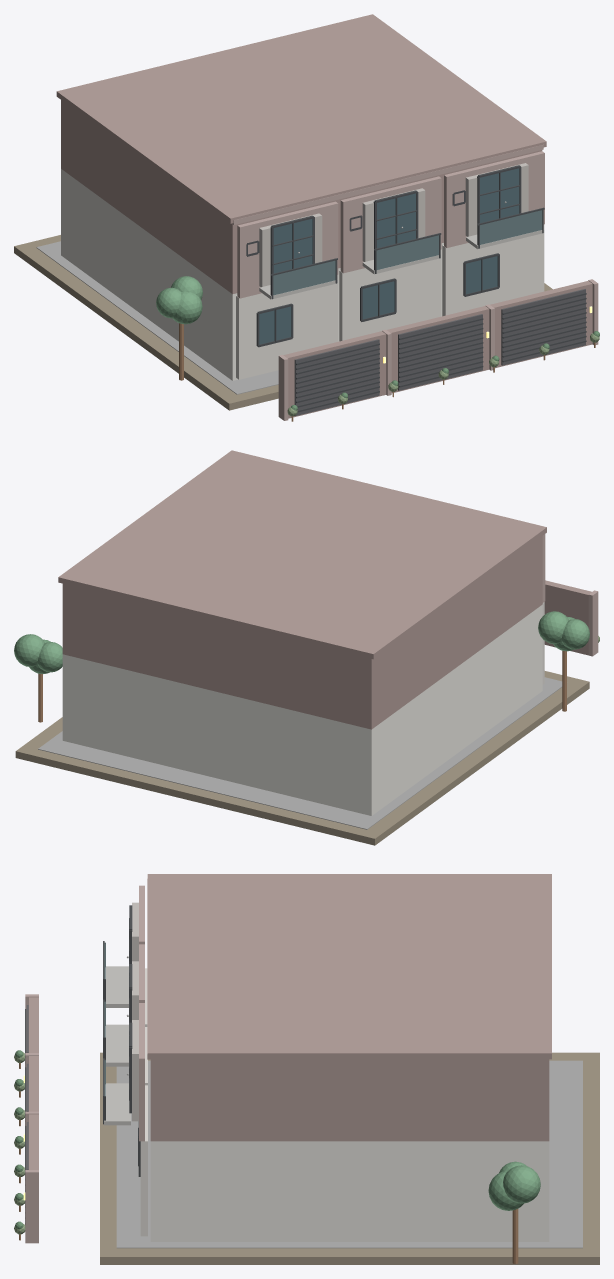
Rendered from modelo-3d-aproximado.glb.
3 views of the same model, one above another, from view 1: azimuth 30°, elevation 25°; view 2: azimuth 150°, elevation 25°; view 3: azimuth 270°, elevation 25° (orthographic). The views are drawn at different scales.
Parts seen in each view (by area): view 1: taupe, stucco, white, taupe2, black, coal, glazing, soil, glazing2, warmgray, paving, foliage (+1 smaller); view 2: taupe, white, soil, paving, foliage, taupe2, wood; view 3: taupe, white, soil, paving, taupe2, concrete, foliage, black, warmgray, stucco.
Boxes of the visible parts, x1,y1,x2,y2 form: taupe: [56, 14, 592, 418]; stucco: [236, 224, 544, 379]; white: [61, 169, 443, 380]; taupe2: [232, 144, 598, 420]; black: [246, 165, 586, 412]; coal: [294, 289, 585, 415]; glazing: [259, 168, 519, 344]; soil: [14, 235, 552, 410]; glazing2: [273, 210, 542, 295]; warmgray: [259, 163, 528, 287]; paving: [36, 241, 278, 394]; foliage: [156, 276, 202, 324]; taupe: [58, 450, 591, 729]; white: [62, 604, 542, 815]; soil: [15, 671, 589, 845]; paving: [38, 677, 562, 829]; foliage: [14, 611, 589, 673]; taupe2: [542, 534, 598, 656]; wood: [38, 651, 566, 722]; taupe: [29, 874, 551, 1169]; white: [150, 1141, 549, 1241]; soil: [100, 1052, 599, 1264]; paving: [116, 1060, 582, 1248]; taupe2: [25, 879, 150, 1243]; concrete: [104, 966, 130, 1125]; foliage: [488, 1161, 540, 1210]; black: [25, 905, 140, 1224]; warmgray: [132, 902, 138, 1121]; stucco: [140, 968, 147, 1236].
Size of the model in its own units: 17 by 6.51 by 17.34.
